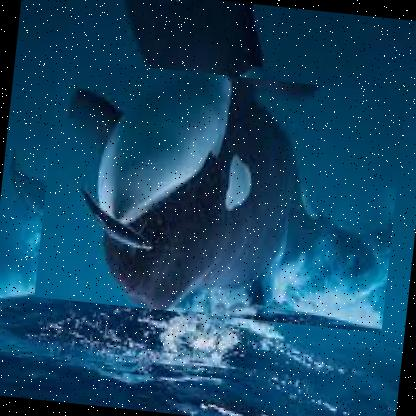killer_whale: (34, 57, 407, 332)
